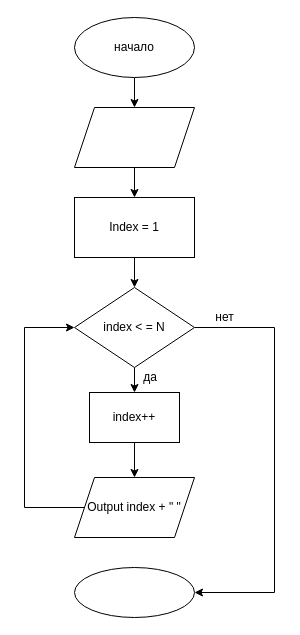
Some shapes in this 300 by 635 pixel diagram are drawn without their labels. The centre of each missing label's shape, as x and y in pixels:
Integer N integer index: the point at 134,137
Конец: the point at 134,592
